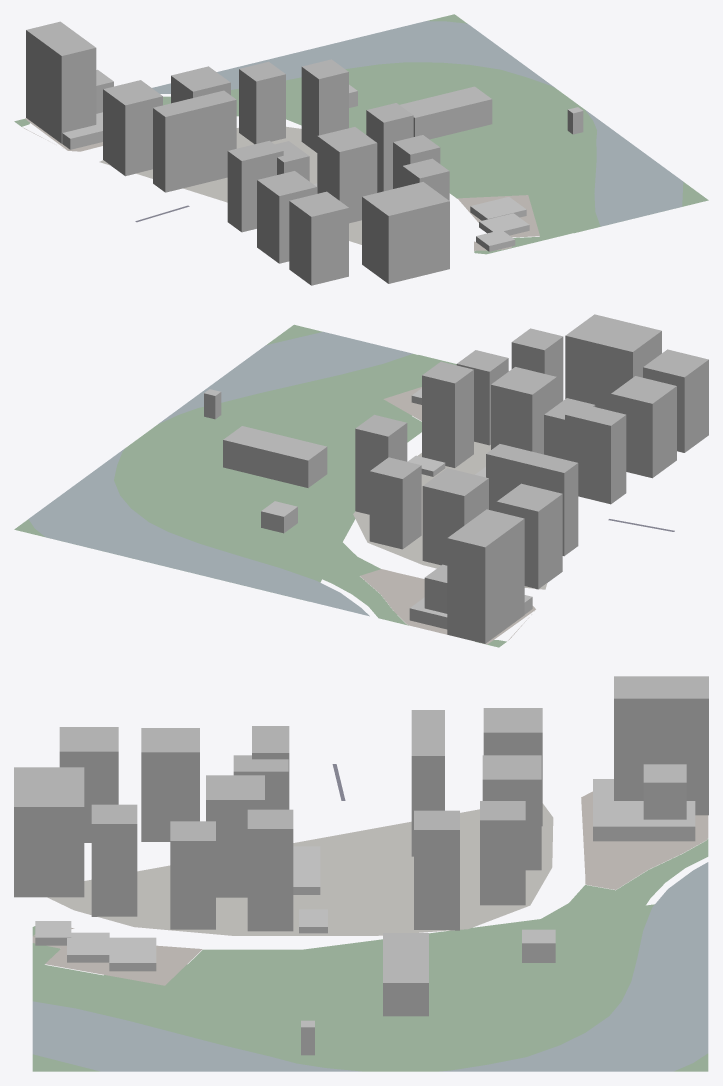
File: 122_86_mid.glb
3 renders of one model, top to bottom at view 1: azimuth 30°, elevation 25°; view 2: azimuth 150°, elevation 25°; view 3: azimuth 270°, elevation 25°, orthographic. The views are drawn at different scales.
Bounding box in the file's own units: 522 × 96.08 × 514.
